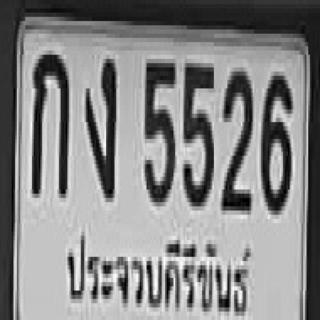A01: (30, 50, 67, 194)
A07: (84, 55, 114, 198)
N02: (221, 67, 251, 206)
N05: (182, 59, 212, 202), (143, 59, 173, 202)
N06: (259, 72, 291, 210)
P50: (62, 229, 252, 320)
